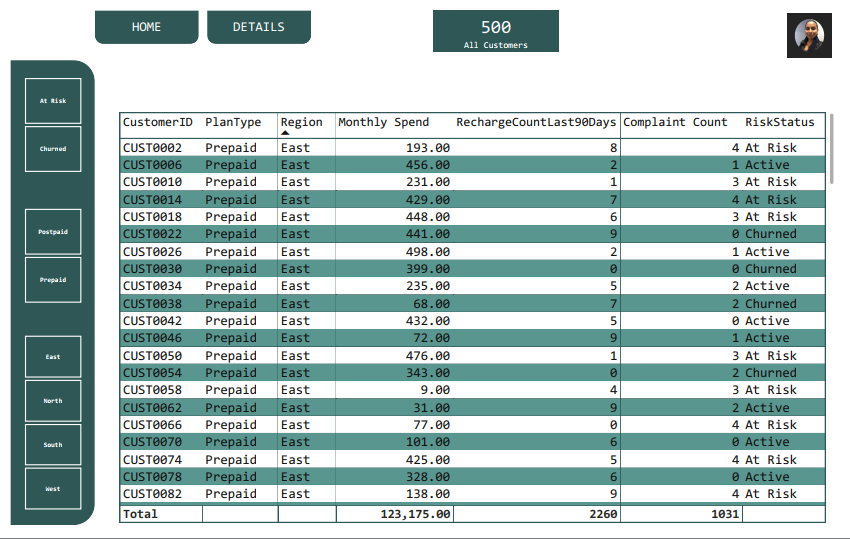

The dashboard page shown, as its layout file describes it:
{"tool":"powerbi","page":{"name":"Details","canvas":[1480,920],"ordinal":1},"visuals":[{"type":"image","box":[1380,0,99.3,89],"z":0},{"type":"shape","box":[0,89,151,831.7],"z":1000},{"type":"shape","box":[151,0,186.2,60],"z":2000},{"type":"shape","box":[351.7,0,186.2,60],"z":3000},{"type":"tableEx","fields":{"Values":["vw_AllCustomers.CustomerID","vw_AllCustomers.PlanType","vw_AllCustomers.Region","Sum(vw_AllCustomers.AverageMonthlySpend)","Sum(vw_AllCustomers.RechargeCountLast30Days)","Sum(vw_AllCustomers.ComplaintCount)","vw_AllCustomers.RiskStatus"]},"box":[190.3,177.9,1289,742.8],"z":4000},{"type":"slicer","fields":{"Values":["vw_AllCustomers.RiskStatus"]},"box":[0,113.8,151,182.1],"z":5000},{"type":"slicer","fields":{"Values":["vw_AllCustomers.PlanType"]},"box":[0,347.6,151,182.1],"z":6000},{"type":"slicer","fields":{"Values":["vw_AllCustomers.Region"]},"box":[0,575.2,151,324.8],"z":7000},{"type":"card","fields":{"Values":["Count(vw_AllCustomers.CustomerID)"]},"box":[757.3,0,223.5,74.5],"z":8000}]}

Visuals, with their boxes in screenshot pixels (x1, y1, x2, y2), scaled from the page's 1480x920 canvas onto the 850x539 screenshot:
image: 793, 0, 849, 52
shape: 0, 52, 87, 538
shape: 87, 0, 194, 35
shape: 202, 0, 309, 35
tableEx - vw_AllCustomers.CustomerID x vw_AllCustomers.PlanType: 109, 104, 849, 538
slicer - vw_AllCustomers.RiskStatus: 0, 67, 87, 173
slicer - vw_AllCustomers.PlanType: 0, 204, 87, 310
slicer - vw_AllCustomers.Region: 0, 337, 87, 527
card - Count(vw_AllCustomers.CustomerID): 435, 0, 563, 44
